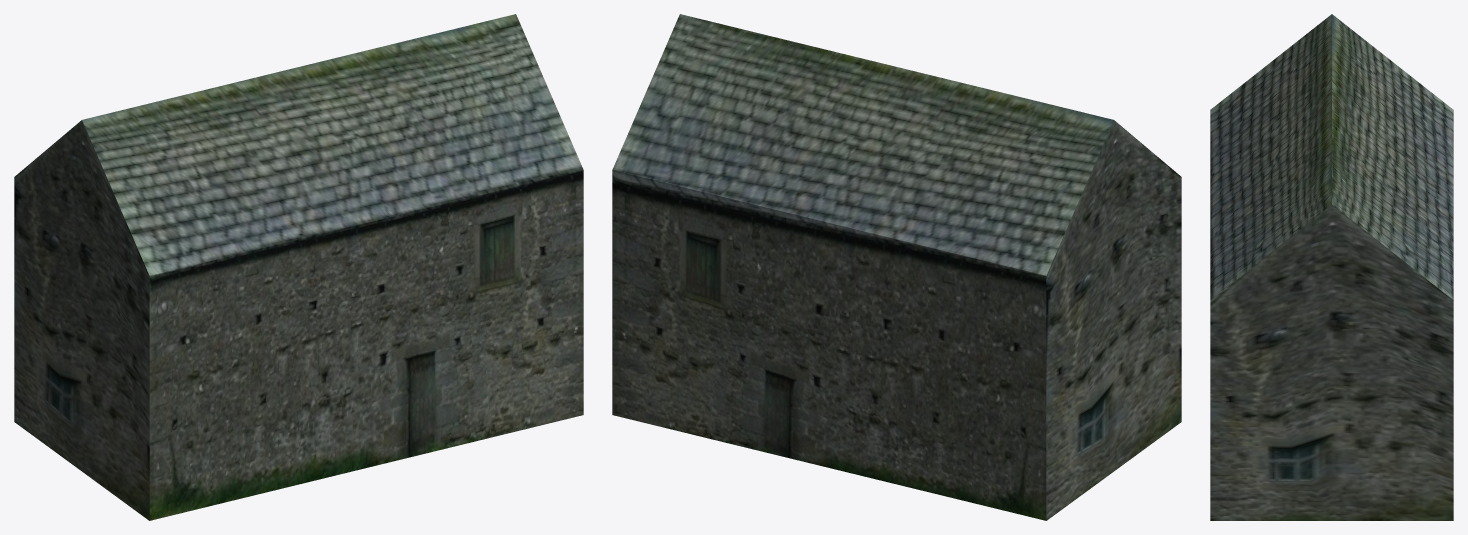
The model's file is stonehouse.glb.
3 renders of one model, left to right at view 1: azimuth 30°, elevation 25°; view 2: azimuth 150°, elevation 25°; view 3: azimuth 270°, elevation 25°, orthographic. The views are drawn at different scales.
Parts seen in each view (by area): view 1: Cube; view 2: Cube; view 3: Cube.
Part boxes in pixels (box(x1,y1,x2,y2)): Cube: box(14, 14, 583, 520); Cube: box(612, 14, 1181, 520); Cube: box(1210, 14, 1453, 520).
Bounding box in the file's own units: 3.71 × 2.87 × 2.
Materials: 1 (1 with a texture image).
